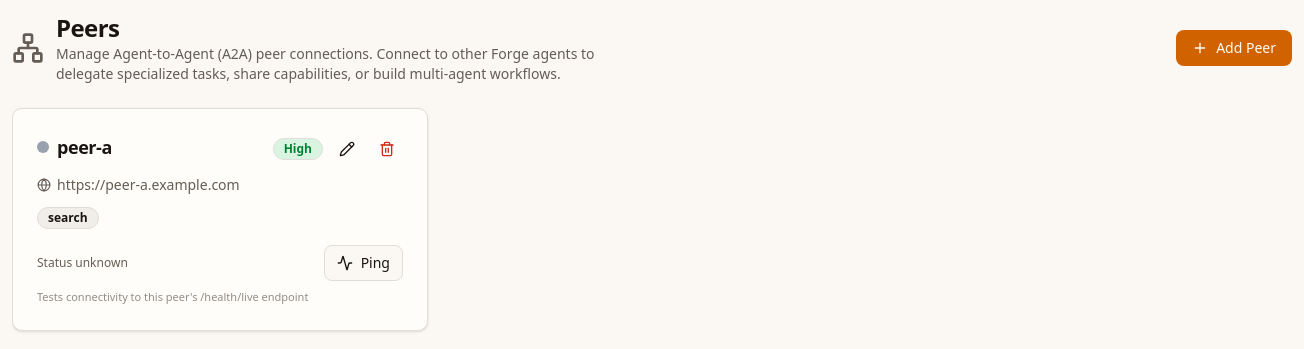
Test case: PeersPage ping status › renders the round-trip latency_ms the backend reports for a reachable ping
The width and height of the screenshot is (1304, 349).
Expected: the heading "peer-a" is shown, [57,133,112,161]
Click the button "Ping".
click(363, 263)  # box [324,245,403,281]
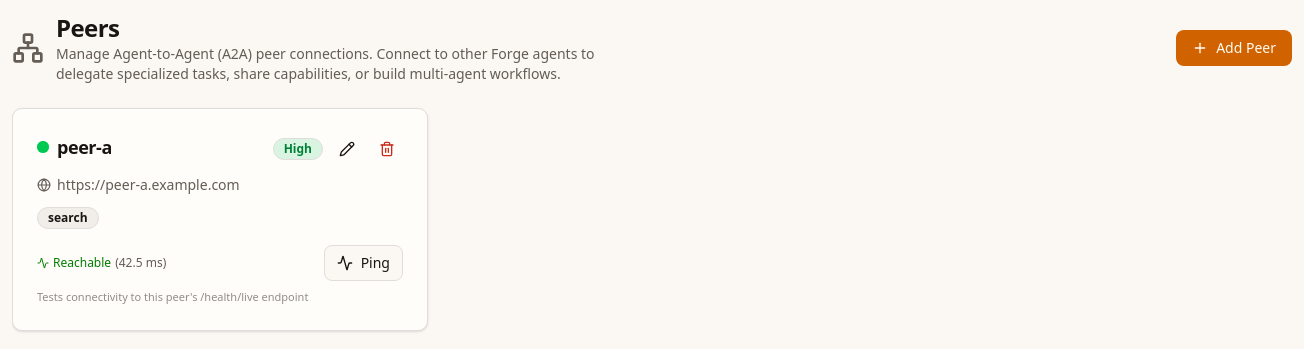
Result: the text "(42.5 ms)" is shown at [115,255,166,271]
